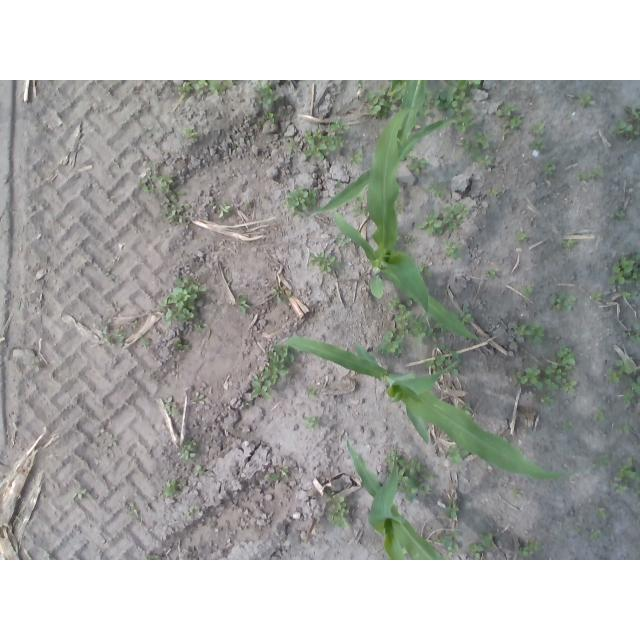Maize: (285, 337, 582, 481), (333, 105, 480, 339), (309, 80, 459, 218), (347, 440, 442, 560)
Weeds: (252, 345, 294, 400), (160, 275, 206, 323), (398, 450, 434, 502), (428, 81, 481, 116), (419, 203, 470, 233), (545, 346, 577, 393), (303, 128, 346, 160), (367, 82, 404, 115), (139, 161, 174, 194), (608, 250, 640, 285), (404, 314, 437, 343), (513, 364, 544, 391), (98, 316, 125, 346), (377, 327, 403, 356), (389, 294, 412, 326), (327, 496, 349, 528), (614, 456, 640, 483), (497, 101, 523, 127), (606, 360, 632, 385), (287, 187, 310, 213), (549, 293, 576, 314), (516, 323, 544, 343), (613, 120, 639, 141), (166, 202, 189, 224), (310, 252, 334, 273), (92, 428, 116, 448), (456, 113, 476, 133), (264, 466, 289, 482), (445, 446, 469, 462), (178, 439, 198, 458), (470, 147, 491, 165), (273, 286, 291, 305), (518, 540, 538, 557), (408, 156, 426, 174), (446, 239, 463, 258), (163, 395, 179, 415), (439, 343, 458, 359), (444, 500, 460, 519), (428, 182, 446, 198), (444, 531, 459, 549), (238, 294, 251, 314), (594, 454, 611, 469), (303, 415, 321, 429), (383, 450, 399, 465), (190, 392, 206, 407), (212, 206, 232, 218), (468, 543, 484, 558), (331, 120, 349, 133), (623, 387, 636, 405), (618, 289, 639, 300), (171, 338, 190, 350), (475, 133, 490, 148), (625, 105, 640, 120), (167, 189, 183, 203), (255, 82, 272, 95), (425, 355, 446, 365), (588, 165, 605, 177), (219, 82, 234, 95), (479, 534, 494, 547), (336, 233, 352, 245), (165, 479, 176, 496), (194, 80, 207, 94), (544, 160, 557, 174), (187, 508, 202, 520), (351, 151, 363, 166), (71, 488, 86, 500), (562, 240, 578, 251), (307, 188, 317, 205), (582, 94, 595, 107), (420, 264, 433, 277), (459, 311, 473, 323), (631, 324, 640, 342), (254, 97, 270, 107), (178, 81, 191, 93), (542, 395, 554, 406), (185, 127, 196, 138), (263, 113, 274, 124), (532, 140, 544, 150), (194, 464, 204, 476), (523, 285, 533, 297), (593, 411, 605, 421), (614, 483, 626, 493), (325, 489, 335, 500), (209, 82, 219, 93), (459, 140, 469, 151), (396, 201, 404, 214), (485, 269, 496, 278), (130, 502, 138, 514), (140, 335, 149, 345), (305, 386, 315, 395), (592, 292, 602, 301), (561, 422, 571, 430), (514, 490, 524, 498), (148, 554, 161, 560), (288, 140, 296, 149), (535, 126, 544, 134), (516, 232, 525, 240), (591, 530, 600, 538), (577, 173, 586, 180), (616, 211, 625, 218), (406, 237, 414, 243), (490, 190, 499, 195), (447, 551, 453, 557), (176, 484, 185, 488), (623, 427, 629, 433), (599, 507, 605, 513)
